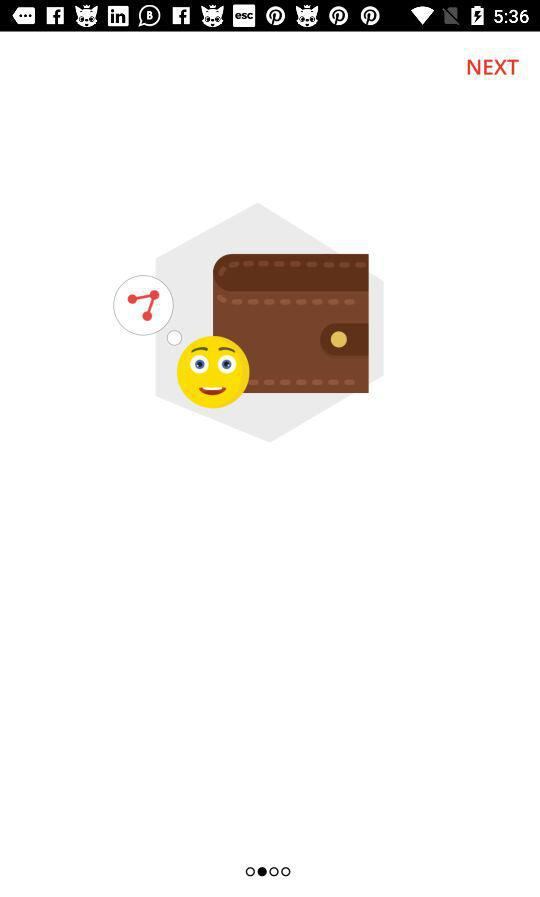Image: (113, 203, 385, 444)
PageIndicator: (245, 866, 292, 877)
Text: (467, 59, 520, 77)
UpperTaskBar: (1, 1, 540, 33)
